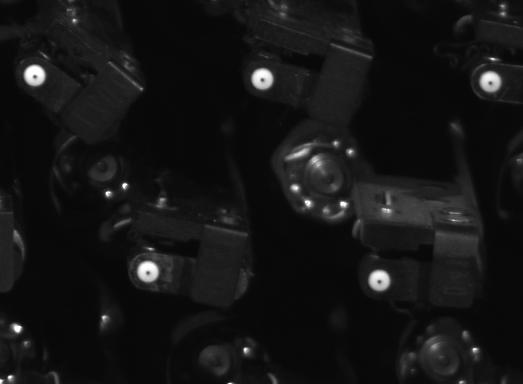fiber: (364, 264, 397, 297), (130, 257, 164, 288), (474, 65, 506, 97), (244, 65, 279, 92), (21, 62, 50, 93)
